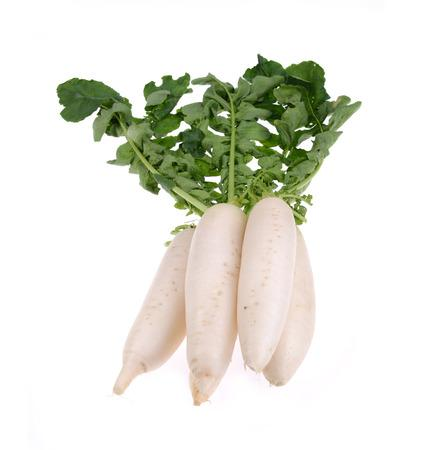radish: (77, 153, 139, 281), (123, 139, 168, 286), (155, 134, 203, 262)
